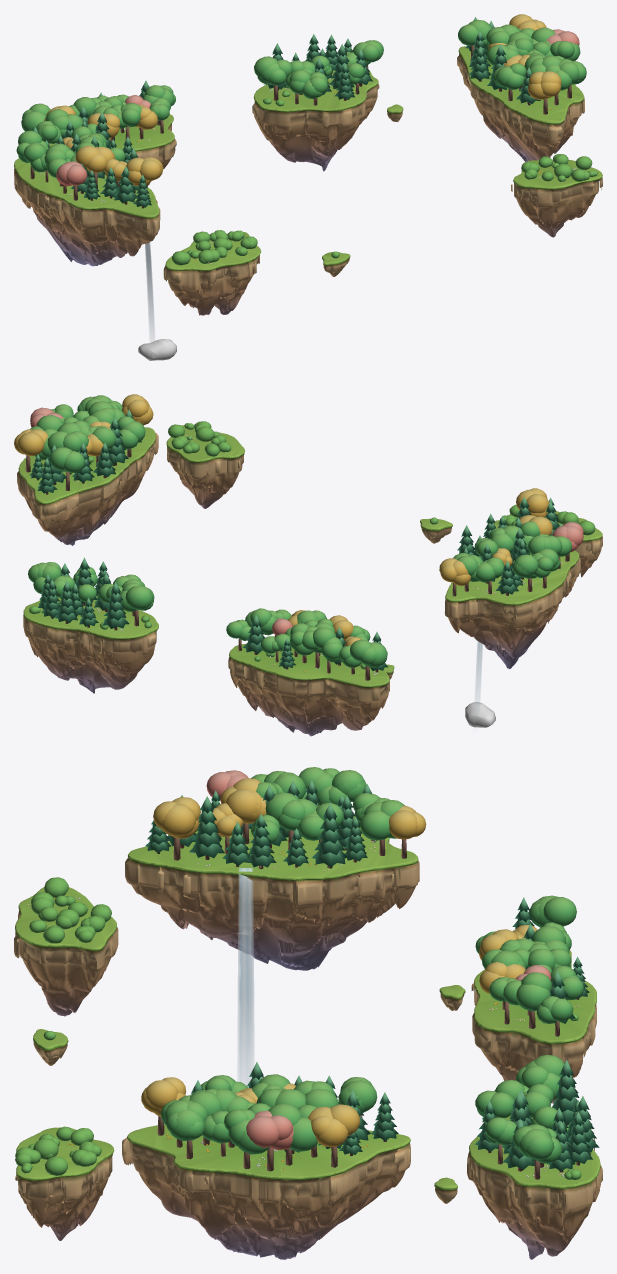
Rendered from twinlakes.glb.
3 views of the same model, one above another, from view 1: azimuth 30°, elevation 25°; view 2: azimuth 150°, elevation 25°; view 3: azimuth 270°, elevation 25° (orthographic). The views are drawn at different scales.
Visible parts, largest first — view 1: decor_leaves, decor_m06, decor_m01, decor_m07, decor_m03, decor_m04, decor_m00, decor_trunks, clouds, waterfall, decor_s00; view 2: decor_leaves, decor_m00, decor_m01, decor_m06, decor_m07, decor_m04, decor_trunks, decor_m03, clouds, decor_s00; view 3: decor_leaves, decor_m06, decor_m07, decor_m01, decor_m00, decor_m03, decor_m04, waterfall, decor_trunks, decor_s00.
Part boxes in pixels (bbox=[...]): decor_leaves: bbox=[16, 14, 597, 265]; decor_m06: bbox=[14, 143, 160, 266]; decor_m01: bbox=[252, 69, 379, 171]; decor_m07: bbox=[457, 46, 584, 161]; decor_m03: bbox=[163, 232, 261, 315]; decor_m04: bbox=[511, 159, 602, 237]; decor_m00: bbox=[109, 114, 176, 186]; decor_trunks: bbox=[30, 45, 571, 208]; clouds: bbox=[138, 339, 176, 360]; waterfall: bbox=[145, 242, 154, 341]; decor_s00: bbox=[322, 252, 350, 276]; decor_leaves: bbox=[14, 394, 595, 670]; decor_m00: bbox=[228, 636, 389, 736]; decor_m01: bbox=[23, 596, 158, 693]; decor_m06: bbox=[444, 523, 580, 669]; decor_m07: bbox=[17, 427, 158, 545]; decor_m04: bbox=[166, 425, 244, 508]; decor_trunks: bbox=[25, 449, 569, 680]; decor_m03: bbox=[493, 511, 602, 577]; clouds: bbox=[465, 702, 495, 727]; decor_s00: bbox=[420, 518, 452, 543]; decor_leaves: bbox=[15, 767, 599, 1179]; decor_m06: bbox=[125, 816, 419, 970]; decor_m07: bbox=[122, 1124, 410, 1259]; decor_m01: bbox=[467, 1115, 602, 1259]; decor_m00: bbox=[471, 950, 596, 1103]; decor_m03: bbox=[14, 887, 118, 1016]; decor_m04: bbox=[15, 1127, 114, 1240]; waterfall: bbox=[237, 868, 254, 1087]; decor_trunks: bbox=[157, 823, 580, 1179]; decor_s00: bbox=[33, 1029, 68, 1065].
Bounding box in the file's own units: 35.87 × 15.03 × 24.49.
